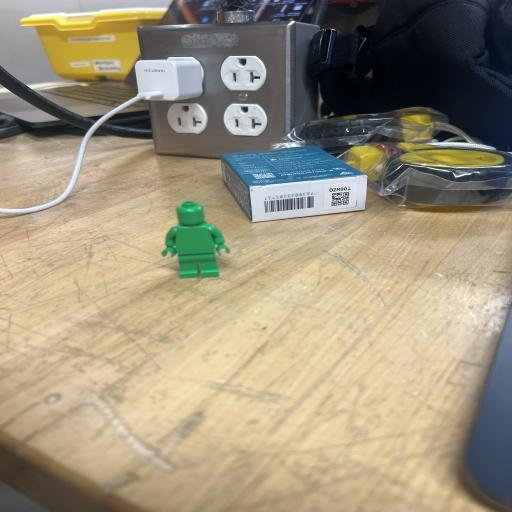green-lego-minifigure-detector: (162, 201, 230, 278)
